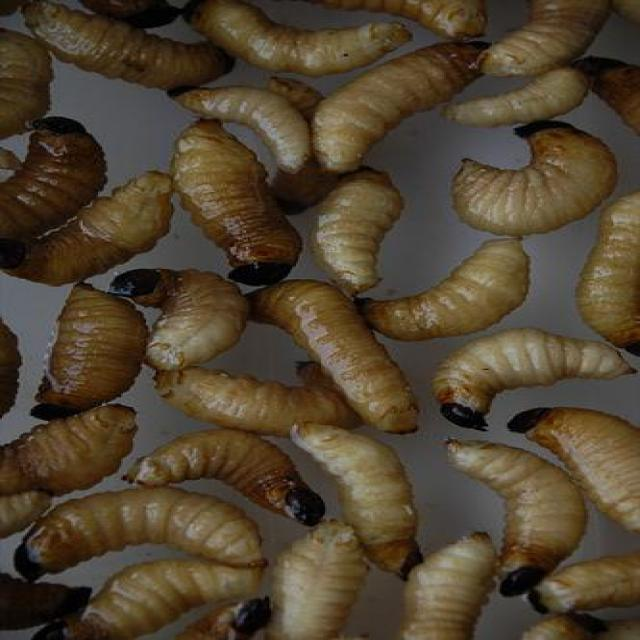Grub-Adult-: (456, 123, 618, 237), (124, 262, 258, 374)
